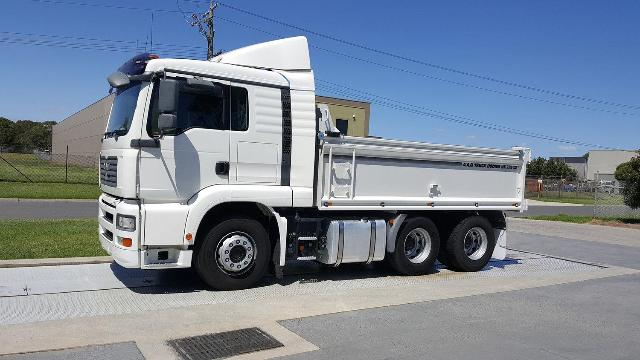truck: (75, 54, 539, 282)
